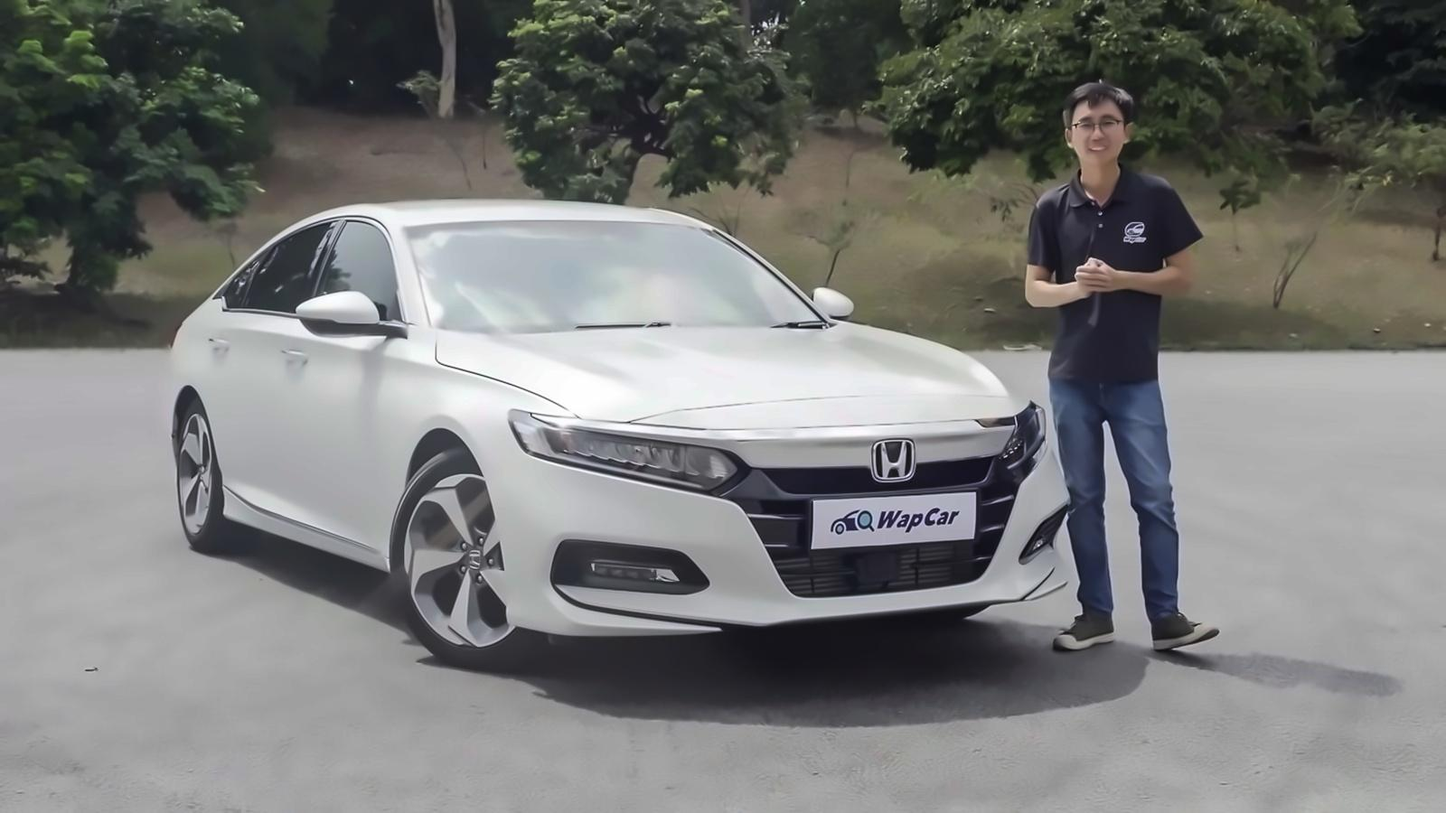Car hood: (430, 320, 1022, 429)
Driver-s door - -F-R-: (274, 201, 414, 571)
Fender - -F-R-: (376, 312, 515, 484)
Fender - -R-R-: (164, 285, 236, 411)
Front bumper: (477, 447, 1073, 642)
Headlight - -L-: (997, 400, 1048, 472)
Headlight - -R-: (506, 408, 750, 498)
Passenger-s door - -R-R-: (214, 203, 342, 541)
Side bumper - -R-: (200, 472, 395, 598)
Side mirror - -L-: (801, 285, 859, 324)
Side mirror - -R-: (292, 289, 415, 341)
